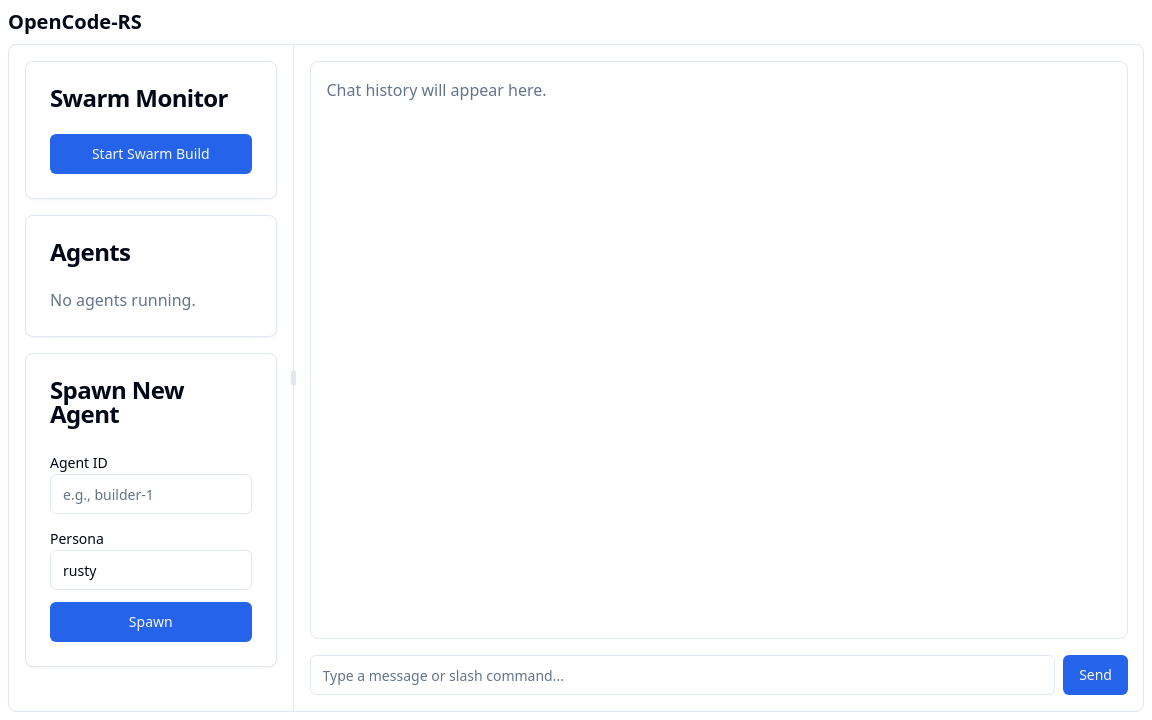
Test case: App Component › handles swarm build start
Click the button "Start Swarm Build" at x=151, y=154, box [50,134,252,174]
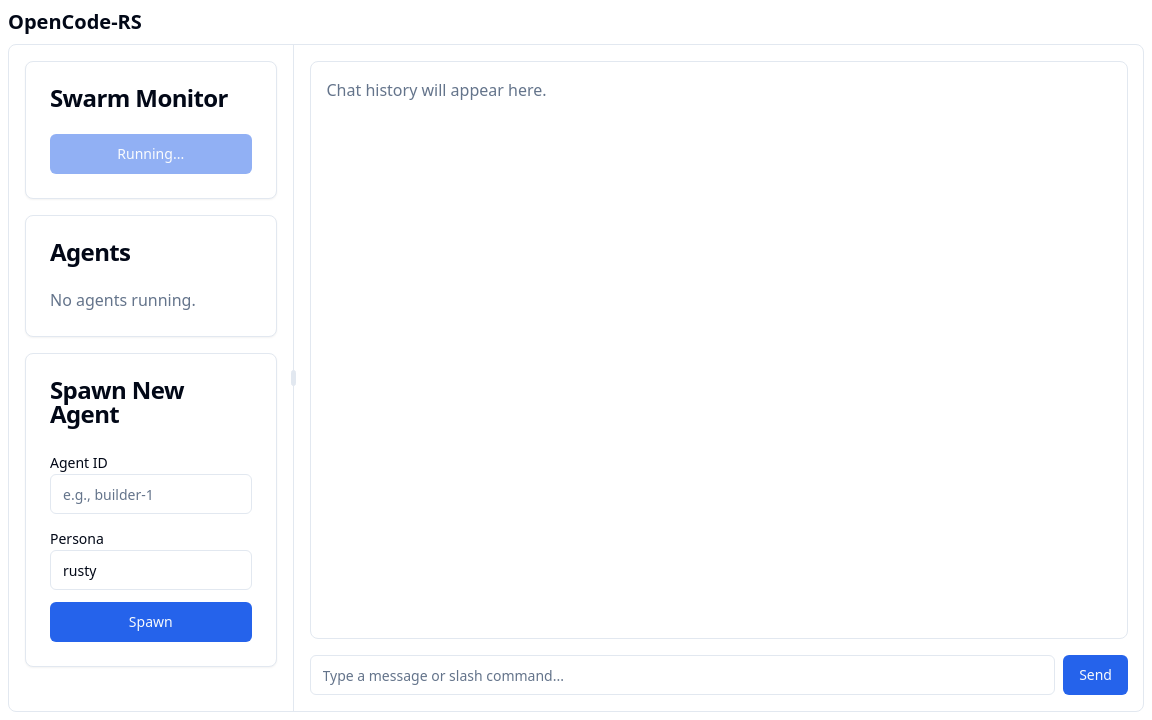
Expected: the button "Running..." is shown, [50,134,252,174]
